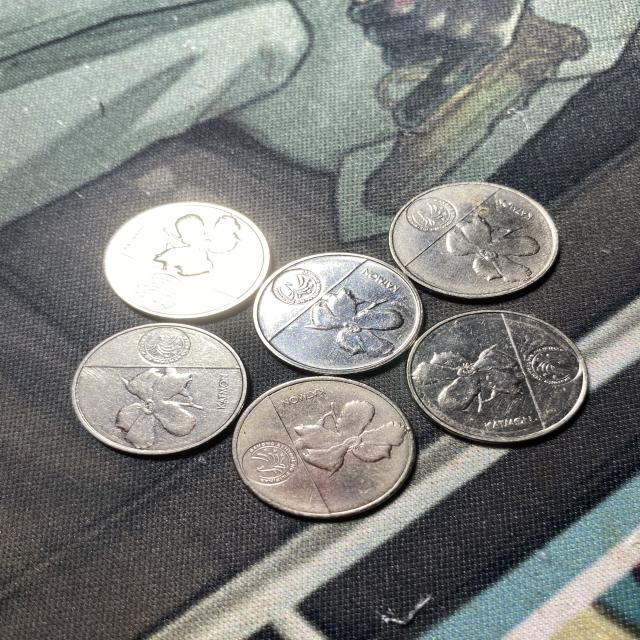25Cent_New_Back: (412, 311, 587, 437), (244, 383, 410, 507), (76, 327, 237, 449), (257, 253, 413, 373), (393, 184, 554, 296), (110, 204, 264, 319)
